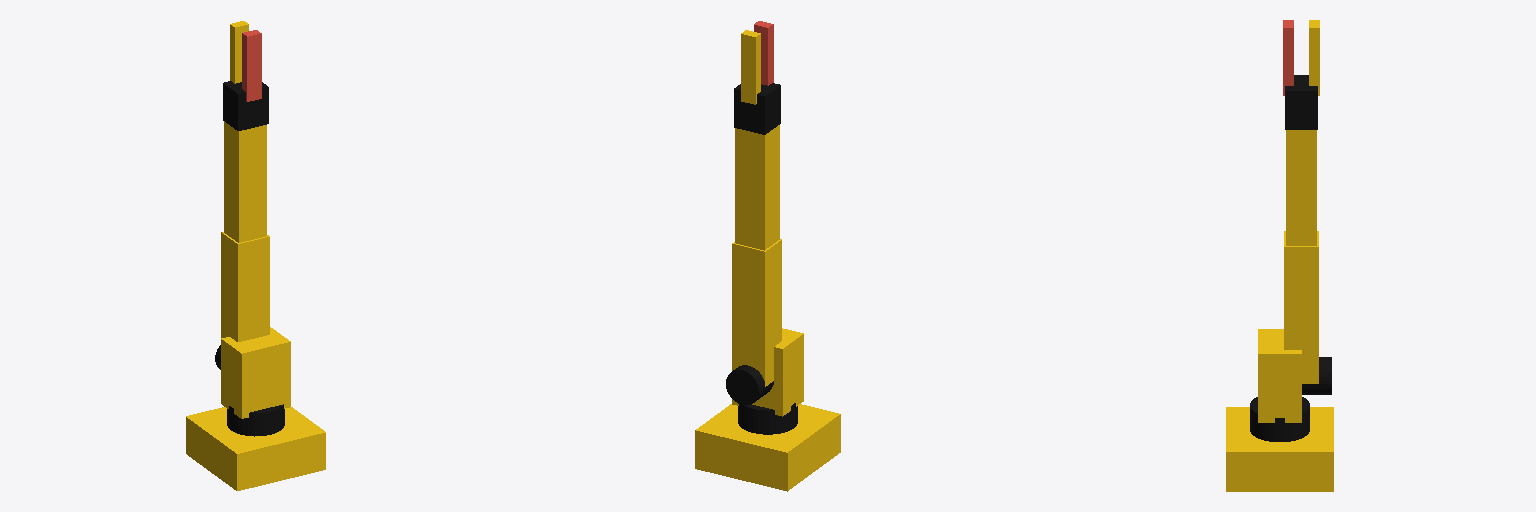
The robot description file, URDF, robot "block_arm":
<?xml version="1.0"?>
<robot name="block_arm">
  <material name="print">
    <color rgba="1.0 0.82 0.12 1"/>
  </material>
  <material name="motor">
    <color rgba="0.12 0.12 0.12 1"/>
  </material>
  <material name="accent">
    <color rgba="0.91 0.36 0.3 1"/>
  </material>

  <link name="base_link">
    <visual>
      <origin xyz="0 0 0.02" rpy="0 0 0"/>
      <geometry><box size="0.1 0.1 0.04"/></geometry>
      <material name="print"/>
    </visual>
    <visual>
      <origin xyz="0 0 0.05" rpy="0 0 0"/>
      <geometry><cylinder radius="0.028" length="0.03"/></geometry>
      <material name="motor"/>
    </visual>
  </link>

  <link name="shoulder_link">
    <visual>
      <origin xyz="0 0 0.03" rpy="0 0 0"/>
      <geometry><box size="0.055 0.04 0.07"/></geometry>
      <material name="print"/>
    </visual>
    <visual>
      <origin xyz="0 0.03 0.03" rpy="1.5708 0 0"/>
      <geometry><cylinder radius="0.018" length="0.036"/></geometry>
      <material name="motor"/>
    </visual>
  </link>

  <link name="upper_arm_link">
    <visual>
      <origin xyz="0 0 0.07" rpy="0 0 0"/>
      <geometry><box size="0.036 0.032 0.14"/></geometry>
      <material name="print"/>
    </visual>
  </link>

  <link name="lower_arm_link">
    <visual>
      <origin xyz="0 0 0.06" rpy="0 0 0"/>
      <geometry><box size="0.032 0.028 0.12"/></geometry>
      <material name="print"/>
    </visual>
  </link>

  <link name="wrist_link">
    <visual>
      <origin xyz="0 0 0.02" rpy="0 0 0"/>
      <geometry><box size="0.034 0.03 0.04"/></geometry>
      <material name="motor"/>
    </visual>
  </link>

  <link name="gripper_link">
    <visual>
      <origin xyz="0 0.012 0.035" rpy="0 0 0"/>
      <geometry><box size="0.016 0.01 0.07"/></geometry>
      <material name="print"/>
    </visual>
  </link>

  <link name="moving_jaw_so101_v1_link">
    <visual>
      <origin xyz="0 0 0.035" rpy="0 0 0"/>
      <geometry><box size="0.016 0.01 0.07"/></geometry>
      <material name="accent"/>
    </visual>
  </link>

  <link name="gripper_frame_link">
    <inertial>
      <mass value="1e-9"/>
      <inertia ixx="0" ixy="0" ixz="0" iyy="0" iyz="0" izz="0"/>
    </inertial>
  </link>

  <joint name="shoulder_pan" type="revolute">
    <origin xyz="0 0 0.065" rpy="0 0 0"/>
    <parent link="base_link"/>
    <child link="shoulder_link"/>
    <axis xyz="0 0 1"/>
    <limit lower="-1.92" upper="1.92" effort="10" velocity="10"/>
  </joint>

  <joint name="shoulder_lift" type="revolute">
    <origin xyz="0 0.02 0.03" rpy="0 0 0"/>
    <parent link="shoulder_link"/>
    <child link="upper_arm_link"/>
    <axis xyz="0 1 0"/>
    <limit lower="-1.74" upper="1.74" effort="10" velocity="10"/>
  </joint>

  <joint name="elbow_flex" type="revolute">
    <origin xyz="0 0 0.14" rpy="0 0 0"/>
    <parent link="upper_arm_link"/>
    <child link="lower_arm_link"/>
    <axis xyz="0 1 0"/>
    <limit lower="-1.69" upper="1.69" effort="10" velocity="10"/>
  </joint>

  <joint name="wrist_flex" type="revolute">
    <origin xyz="0 0 0.12" rpy="0 0 0"/>
    <parent link="lower_arm_link"/>
    <child link="wrist_link"/>
    <axis xyz="0 1 0"/>
    <limit lower="-1.66" upper="1.66" effort="10" velocity="10"/>
  </joint>

  <joint name="wrist_roll" type="revolute">
    <origin xyz="0 0 0.03" rpy="0 0 0"/>
    <parent link="wrist_link"/>
    <child link="gripper_link"/>
    <axis xyz="0 0 1"/>
    <limit lower="-2.74" upper="2.84" effort="10" velocity="10"/>
  </joint>

  <joint name="gripper" type="revolute">
    <origin xyz="0 -0.012 0" rpy="0 0 0"/>
    <parent link="gripper_link"/>
    <child link="moving_jaw_so101_v1_link"/>
    <axis xyz="1 0 0"/>
    <limit lower="-0.17" upper="1.74" effort="10" velocity="10"/>
  </joint>

  <joint name="gripper_frame_joint" type="fixed">
    <origin xyz="0 0 0.075" rpy="0 0 0"/>
    <parent link="gripper_link"/>
    <child link="gripper_frame_link"/>
  </joint>
</robot>

--- Render facts (derived) ---
Views: 3 orthographic renders of the robot side by side, from view 1: azimuth 30°, elevation 25°; view 2: azimuth 150°, elevation 25°; view 3: azimuth 270°, elevation 25°.
Model block_arm with 8 links and 7 joints (6 revolute, 1 fixed), rooted at base_link, posed all joints at 0.
Links seen in each view (by area): view 1: base_link, shoulder_link, upper_arm_link, lower_arm_link, wrist_link, moving_jaw_so101_v1_link, gripper_link; view 2: base_link, upper_arm_link, lower_arm_link, shoulder_link, wrist_link, gripper_link, moving_jaw_so101_v1_link; view 3: base_link, shoulder_link, upper_arm_link, lower_arm_link, wrist_link, gripper_link, moving_jaw_so101_v1_link.
Link boxes in pixels (x1=…): base_link: x1=186, y1=404, x2=325, y2=490; shoulder_link: x1=215, y1=327, x2=290, y2=418; upper_arm_link: x1=221, y1=232, x2=269, y2=341; lower_arm_link: x1=224, y1=121, x2=266, y2=242; wrist_link: x1=223, y1=81, x2=268, y2=130; moving_jaw_so101_v1_link: x1=242, y1=30, x2=261, y2=101; gripper_link: x1=230, y1=21, x2=248, y2=83; base_link: x1=695, y1=403, x2=840, y2=491; upper_arm_link: x1=732, y1=239, x2=781, y2=386; lower_arm_link: x1=735, y1=125, x2=779, y2=250; shoulder_link: x1=726, y1=328, x2=803, y2=416; wrist_link: x1=734, y1=83, x2=780, y2=134; gripper_link: x1=741, y1=30, x2=760, y2=104; moving_jaw_so101_v1_link: x1=754, y1=21, x2=773, y2=85; base_link: x1=1226, y1=397, x2=1333, y2=491; shoulder_link: x1=1258, y1=329, x2=1331, y2=422; upper_arm_link: x1=1284, y1=231, x2=1318, y2=383; lower_arm_link: x1=1286, y1=130, x2=1316, y2=245; wrist_link: x1=1285, y1=75, x2=1317, y2=129; gripper_link: x1=1309, y1=20, x2=1319, y2=95; moving_jaw_so101_v1_link: x1=1283, y1=20, x2=1293, y2=95.
Size in the robot's own frame: 0.1 by 0.1 by 0.455 metres.
Geometry: primitives only (box / cylinder / sphere), no mesh files.
